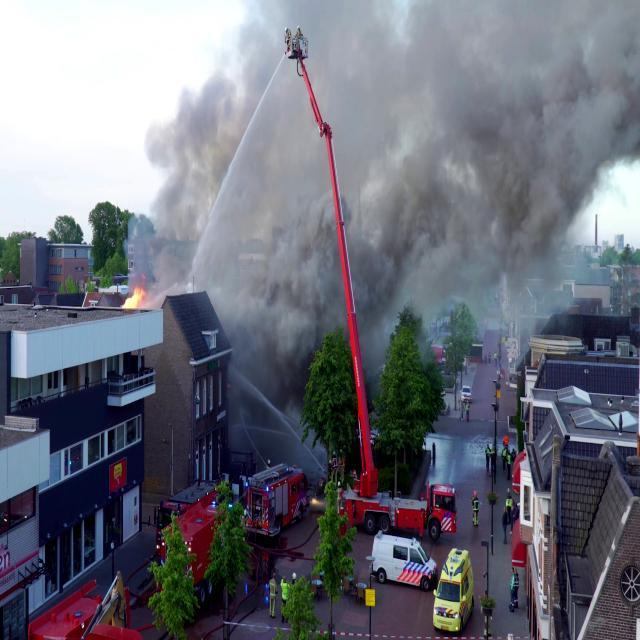Fire: (122, 286, 150, 306)
Smoke: (128, 0, 640, 312)
